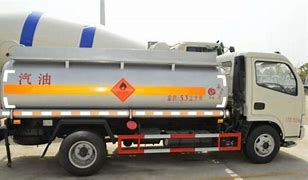oil truck: (0, 37, 307, 173)
